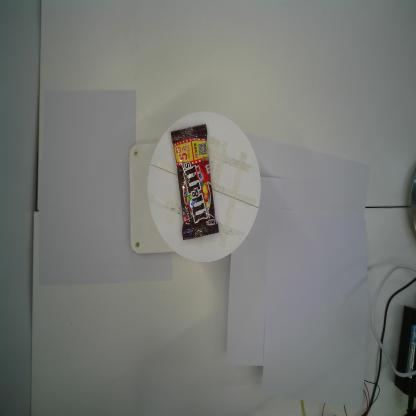Chocolate: (170, 124, 218, 240)
